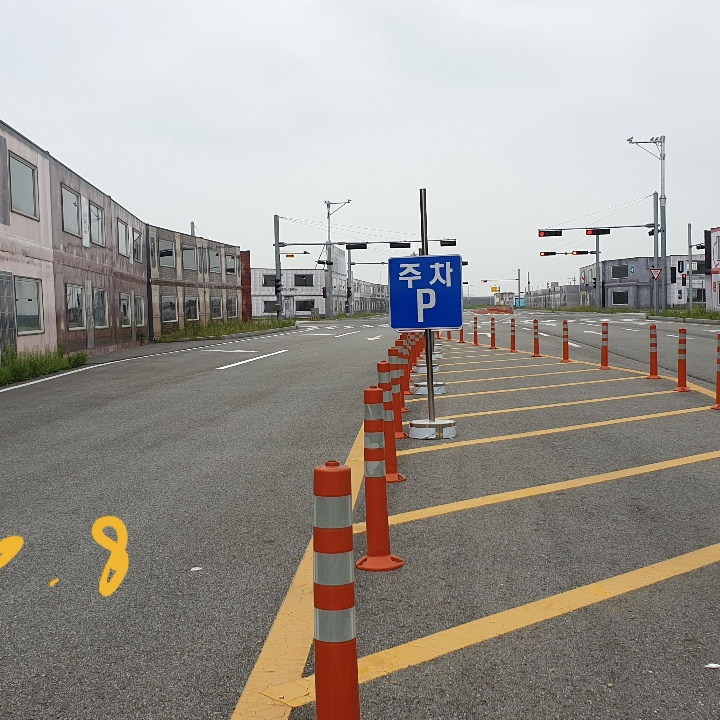parking: (409, 284, 441, 325)
